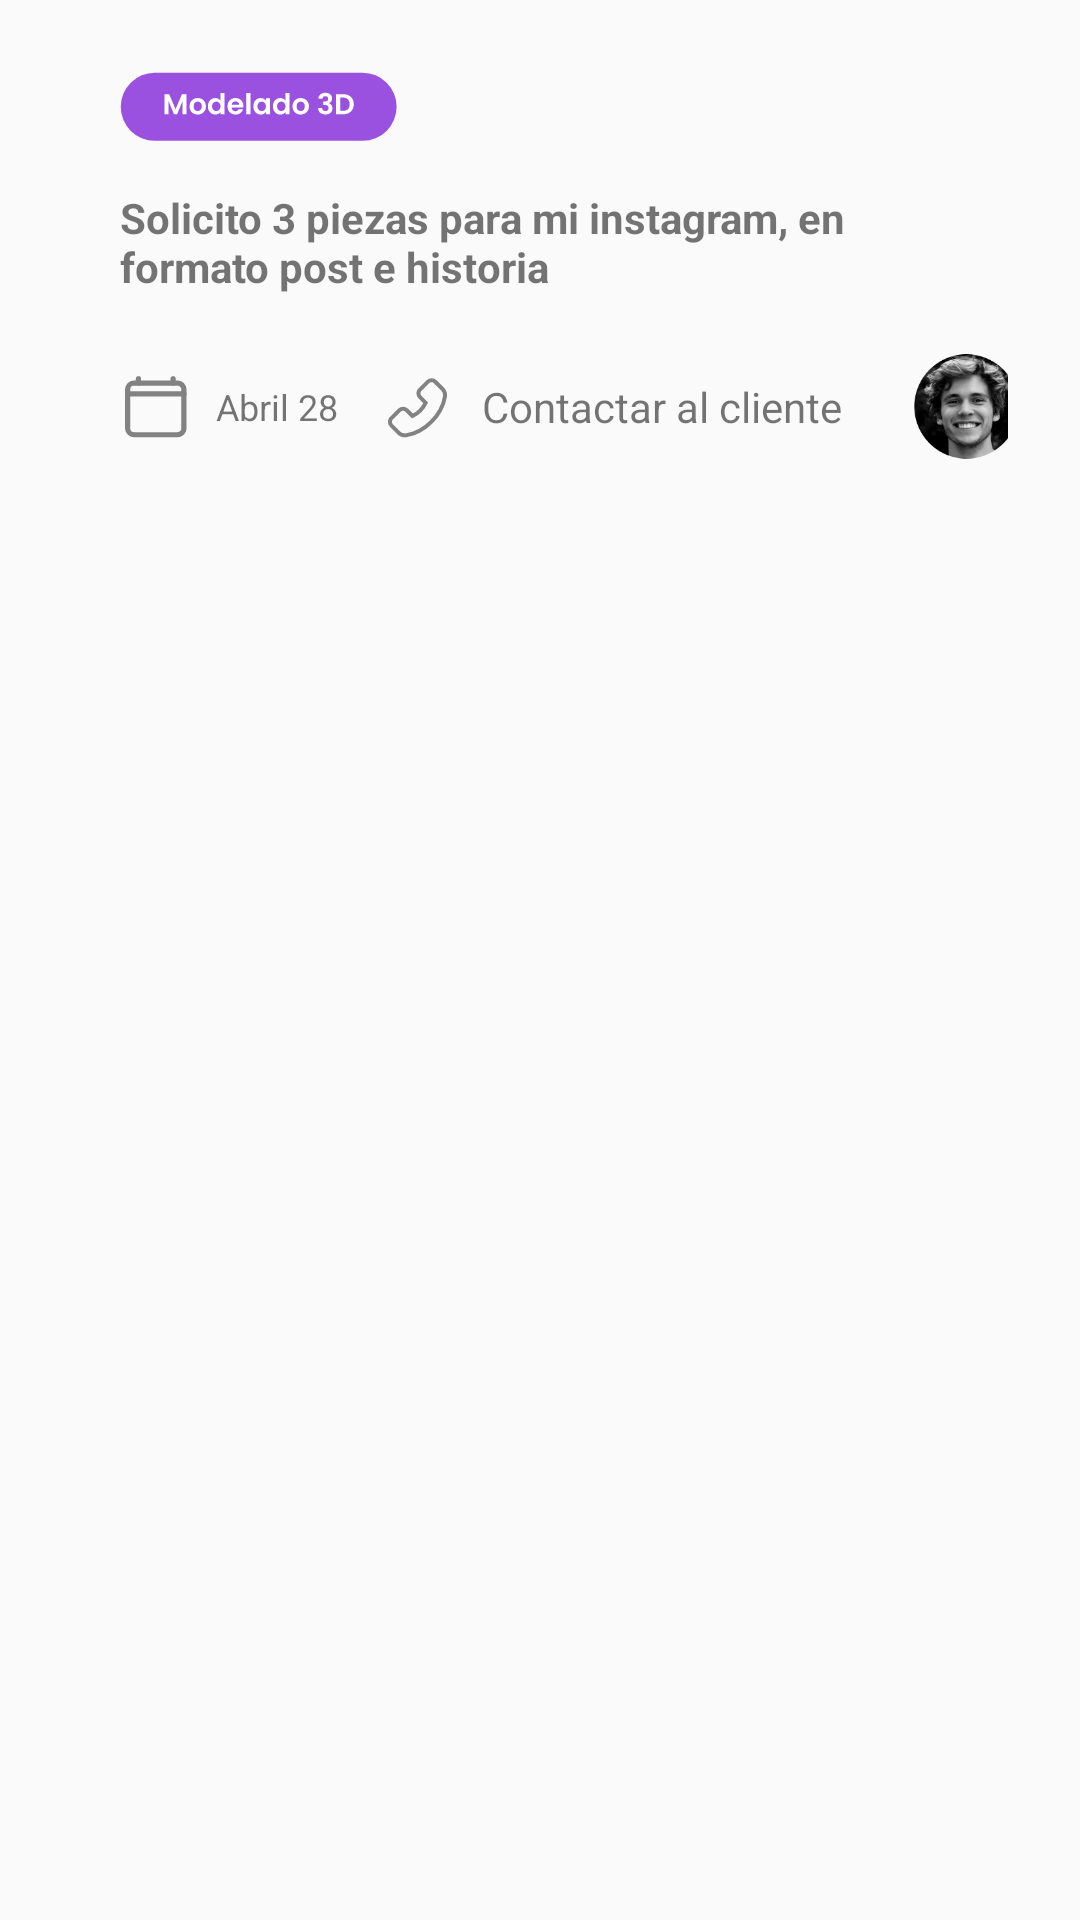

Icon bounding boxes for this 1080px x 1920px phone screenshot, format box(x1, y1, x2, y2):
calendar clear: box(125, 376, 187, 438)
phone: box(388, 378, 447, 438)
